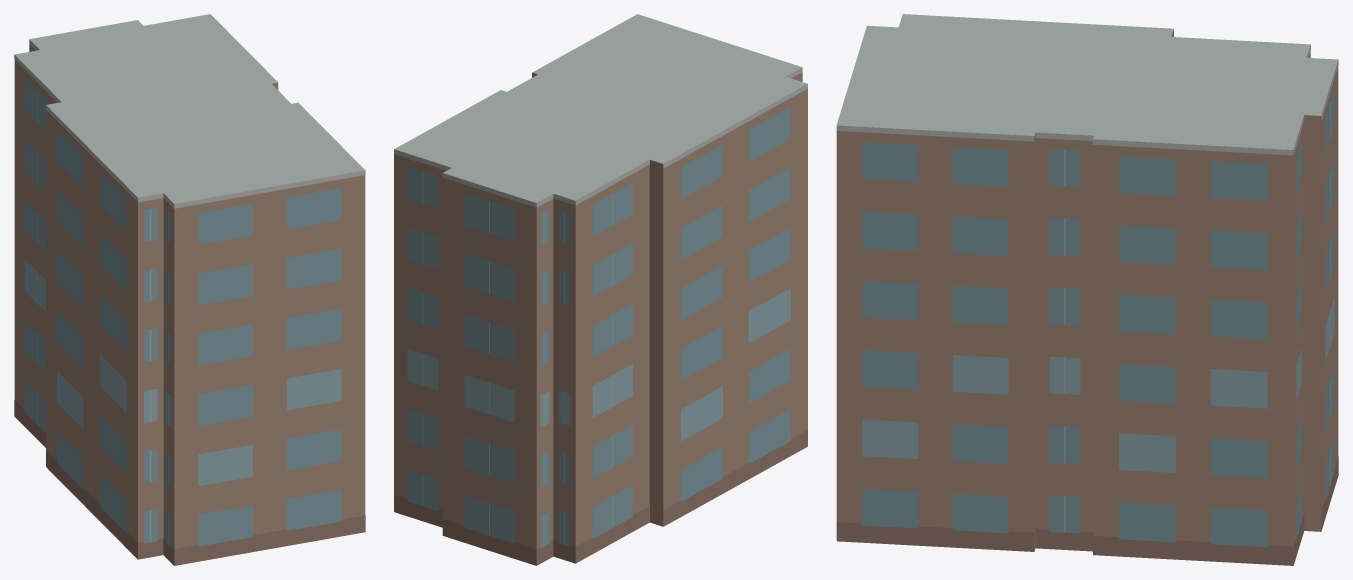
The model's file is survey-upis-32970064.glb.
The picture shows the model from 3 angles, left to right: view 1: azimuth 30°, elevation 25°; view 2: azimuth 150°, elevation 25°; view 3: azimuth 270°, elevation 25°; orthographic projection. The views are drawn at different scales.
Parts seen in each view (by area): view 1: survey-upis-32970064.tmp; view 2: survey-upis-32970064.tmp; view 3: survey-upis-32970064.tmp.
Part boxes in pixels (x1,y1,x2,y2): survey-upis-32970064.tmp: (14,14,365,565); survey-upis-32970064.tmp: (394,14,807,565); survey-upis-32970064.tmp: (836,14,1338,565).
Size of the model in its own units: 13.06 by 18.6 by 20.36.
